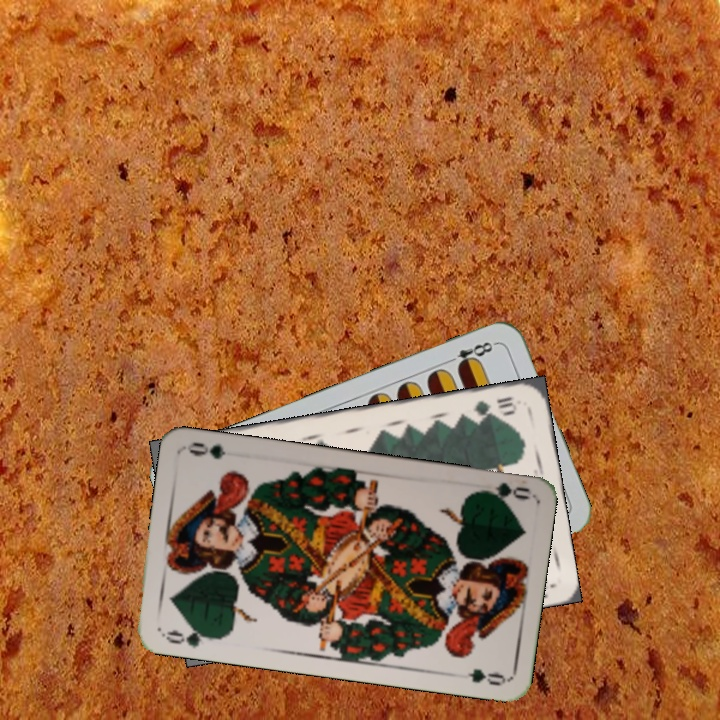E8: (442, 337, 499, 372)
G10: (469, 392, 519, 421)
GO: (471, 478, 531, 506), (159, 623, 218, 651)
